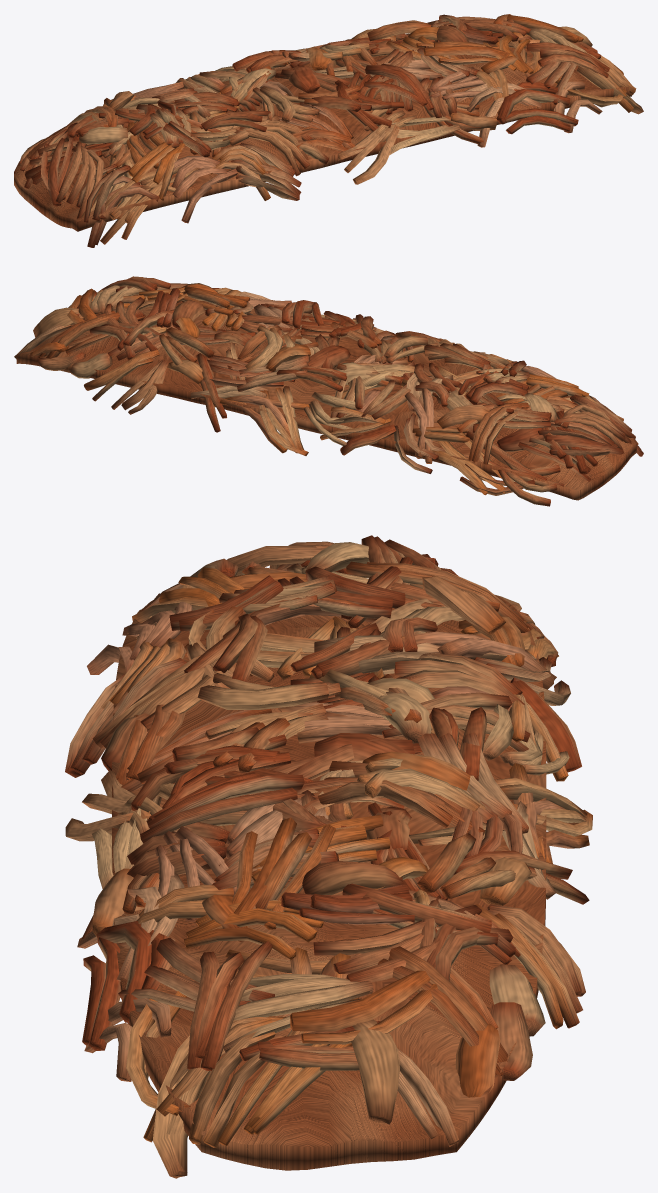
The model's file is pulled-pernil.glb.
3 renders of one model, top to bottom at view 1: azimuth 30°, elevation 25°; view 2: azimuth 150°, elevation 25°; view 3: azimuth 270°, elevation 25°, orthographic. The views are drawn at different scales.
Visible parts, largest first — view 1: pulled_pernil_fiapos; view 2: pulled_pernil_fiapos; view 3: pulled_pernil_fiapos.
Boxes of the visible parts, x1=… form: pulled_pernil_fiapos: x1=14, y1=14, x2=643, y2=247; pulled_pernil_fiapos: x1=14, y1=276, x2=643, y2=506; pulled_pernil_fiapos: x1=65, y1=535, x2=592, y2=1178.
Bounding box in the file's own units: 0.2812 × 0.043 × 0.1138.
Materials: 2 (2 with a texture image).
